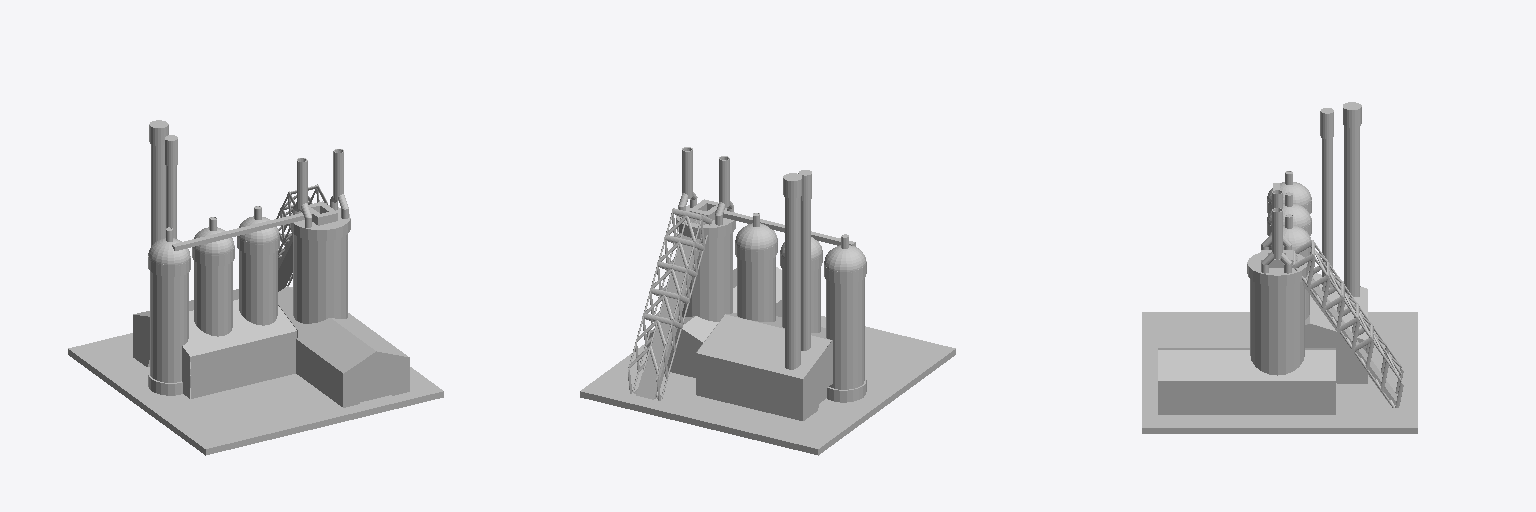
File: Horno 3.obj
The picture shows the model from 3 angles: view 1: azimuth 30°, elevation 25°; view 2: azimuth 150°, elevation 25°; view 3: azimuth 270°, elevation 25°; orthographic projection.
Parts seen in each view (by area): view 1: Floor, Sides1 MainBuilding1 MainBuilding, MainBuilding2 Sides2, FuelPipeMid1 FuelPipe, CokeFuelPipe2 PipeMid2, CokeFuelPipe3 PipeMid3, PipeMid4 CokeFuelPipe4, FrontAndBack2 MainBuilding2, BackPipe PipeMid1, MainBuilding1 MainBuilding FrontAndBack1, Plank1 Planks, FuelPipe FuelPipeTop1 (+6 smaller); view 2: Floor, Sides1 MainBuilding1 MainBuilding, CokeFuelPipe2 PipeMid2, FuelPipeMid1 FuelPipe, BackPipe PipeMid1, PipeMid4 CokeFuelPipe4, Planks Plank4, MiddlePipe TubeEnd1, MainBuilding1 MainBuilding FrontAndBack1, MainBuilding2 Sides2, CylinderTop2 CokeFuelPipe2, CokeFuelPipe4 CylinderTop4 (+6 smaller); view 3: Floor, MainBuilding2 Sides2, FuelPipeMid1 FuelPipe, BackPipe PipeMid1, MainBuilding1 MainBuilding FrontAndBack1, MiddlePipe TubeEnd1, FuelPipe FuelPipeTop1, Planks Plank4, Sides1 MainBuilding1 MainBuilding, PipeEnd7 BigPipe, CylinderTop2 CokeFuelPipe2.
Boxes of the visible parts, x1,y1,x2,y2 form: Floor: [68, 333, 443, 455]; Sides1 MainBuilding1 MainBuilding: [133, 289, 296, 398]; MainBuilding2 Sides2: [278, 286, 407, 406]; FuelPipeMid1 FuelPipe: [293, 234, 347, 323]; CokeFuelPipe2 PipeMid2: [150, 271, 188, 382]; CokeFuelPipe3 PipeMid3: [194, 261, 232, 336]; PipeMid4 CokeFuelPipe4: [239, 250, 277, 325]; FrontAndBack2 MainBuilding2: [343, 351, 409, 407]; BackPipe PipeMid1: [151, 144, 165, 245]; MainBuilding1 MainBuilding FrontAndBack1: [133, 305, 297, 398]; Plank1 Planks: [172, 211, 312, 250]; FuelPipe FuelPipeTop1: [290, 205, 350, 240]; Floor: [580, 316, 955, 455]; Sides1 MainBuilding1 MainBuilding: [696, 313, 831, 420]; CokeFuelPipe2 PipeMid2: [826, 278, 864, 389]; FuelPipeMid1 FuelPipe: [679, 233, 732, 321]; BackPipe PipeMid1: [785, 197, 800, 369]; PipeMid4 CokeFuelPipe4: [737, 257, 775, 321]; Planks Plank4: [636, 211, 706, 399]; MiddlePipe TubeEnd1: [801, 200, 810, 350]; MainBuilding1 MainBuilding FrontAndBack1: [696, 313, 832, 420]; MainBuilding2 Sides2: [648, 267, 781, 342]; CylinderTop2 CokeFuelPipe2: [824, 245, 865, 272]; CokeFuelPipe4 CylinderTop4: [735, 223, 777, 251]; Floor: [1142, 312, 1417, 433]; MainBuilding2 Sides2: [1158, 348, 1335, 414]; FuelPipeMid1 FuelPipe: [1250, 279, 1304, 375]; BackPipe PipeMid1: [1344, 126, 1359, 296]; MainBuilding1 MainBuilding FrontAndBack1: [1305, 286, 1367, 383]; MiddlePipe TubeEnd1: [1322, 138, 1332, 287]; FuelPipe FuelPipeTop1: [1247, 252, 1307, 286]; Planks Plank4: [1293, 252, 1397, 404]; Sides1 MainBuilding1 MainBuilding: [1305, 273, 1367, 339]; PipeEnd7 BigPipe: [1272, 208, 1282, 259]; CylinderTop2 CokeFuelPipe2: [1267, 182, 1311, 206].
Size of the model in its own units: 200 by 193 by 200.